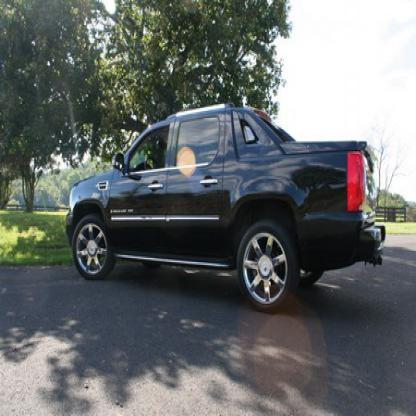Vehicle: (63, 100, 392, 319)
